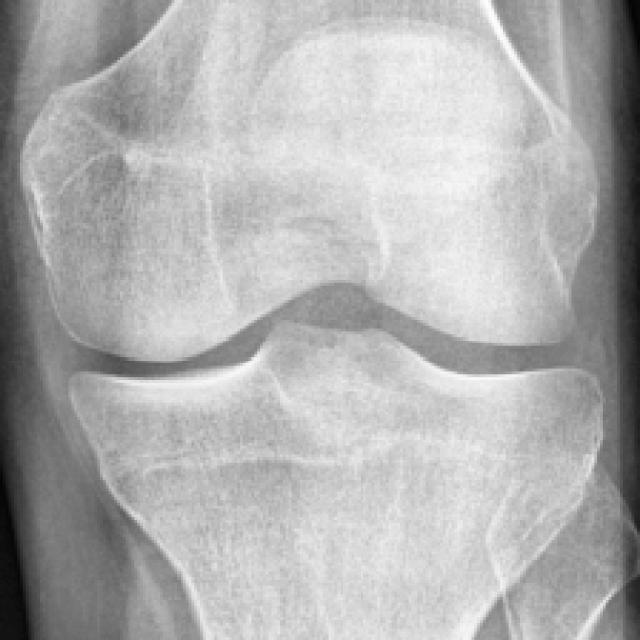femur: (23, 0, 598, 364)
tibia: (71, 323, 605, 637)
